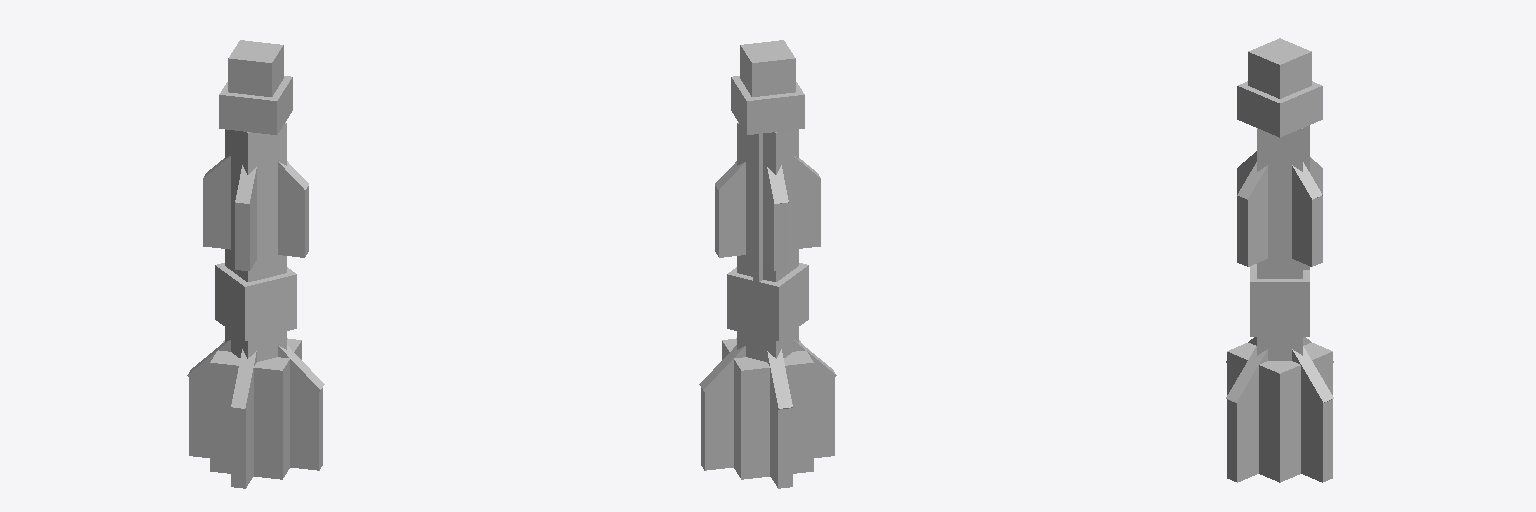
Rendered from missile_chemical.obj.
3 renders of one model, left to right at view 1: azimuth 30°, elevation 25°; view 2: azimuth 150°, elevation 25°; view 3: azimuth 270°, elevation 25°, orthographic.
Visible parts, largest first — view 1: MOTOR_MODULE, MAIN_MISSILE_MODULE, CHEMICAL_CONTROL_MODULE, WING_B_B_1, WING_T_A_2, CHEM_WARHEAD_1, CHEM_WARHEAD_2, WING_B_A_1, WING_T_A_1, WING_T_B_2, WING_B_B_2, WING_B_A_2 (+1 smaller); view 2: MOTOR_MODULE, MAIN_MISSILE_MODULE, CHEMICAL_CONTROL_MODULE, WING_B_A_1, WING_T_B_2, CHEM_WARHEAD_1, CHEM_WARHEAD_2, WING_B_B_1, CHEMICAL_CONDUCT, WING_B_A_2, WING_T_A_2, WING_T_B_1 (+2 smaller); view 3: MOTOR_MODULE, MAIN_MISSILE_MODULE, CHEMICAL_CONTROL_MODULE, CHEM_WARHEAD_1, CHEM_WARHEAD_2, WING_B_A_1, WING_B_B_1, WING_T_A_2, WING_T_B_2, WING_T_B_1, WING_B_B_2, WING_B_A_2 (+1 smaller).
Boxes of the visible parts, x1=… form: MOTOR_MODULE: x1=210, y1=338, x2=301, y2=479; MAIN_MISSILE_MODULE: x1=225, y1=122, x2=286, y2=361; CHEMICAL_CONTROL_MODULE: x1=215, y1=263, x2=296, y2=340; WING_B_B_1: x1=189, y1=374, x2=322, y2=470; WING_T_A_2: x1=203, y1=180, x2=308, y2=257; CHEM_WARHEAD_1: x1=219, y1=76, x2=292, y2=134; CHEM_WARHEAD_2: x1=228, y1=40, x2=283, y2=96; WING_B_A_1: x1=231, y1=395, x2=253, y2=488; WING_T_A_1: x1=203, y1=156, x2=308, y2=212; WING_T_B_2: x1=235, y1=202, x2=256, y2=270; WING_B_B_2: x1=187, y1=340, x2=324, y2=391; WING_B_A_2: x1=231, y1=349, x2=256, y2=409; MOTOR_MODULE: x1=722, y1=338, x2=813, y2=479; MAIN_MISSILE_MODULE: x1=737, y1=122, x2=798, y2=361; CHEMICAL_CONTROL_MODULE: x1=727, y1=263, x2=808, y2=340; WING_B_A_1: x1=701, y1=376, x2=834, y2=470; WING_T_B_2: x1=715, y1=178, x2=820, y2=257; CHEM_WARHEAD_1: x1=731, y1=76, x2=804, y2=134; CHEM_WARHEAD_2: x1=740, y1=40, x2=795, y2=96; WING_B_B_1: x1=770, y1=395, x2=792, y2=488; CHEMICAL_CONDUCT: x1=753, y1=134, x2=762, y2=281; WING_B_A_2: x1=699, y1=340, x2=836, y2=391; WING_T_A_2: x1=767, y1=203, x2=788, y2=270; WING_T_B_1: x1=715, y1=156, x2=819, y2=212; MOTOR_MODULE: x1=1227, y1=343, x2=1332, y2=482; MAIN_MISSILE_MODULE: x1=1257, y1=128, x2=1302, y2=360; CHEMICAL_CONTROL_MODULE: x1=1250, y1=264, x2=1309, y2=336; CHEM_WARHEAD_1: x1=1237, y1=81, x2=1322, y2=137; CHEM_WARHEAD_2: x1=1248, y1=38, x2=1311, y2=98; WING_B_A_1: x1=1301, y1=392, x2=1332, y2=482; WING_B_B_1: x1=1227, y1=392, x2=1258, y2=482; WING_T_A_2: x1=1237, y1=168, x2=1322, y2=266; WING_T_B_2: x1=1237, y1=169, x2=1322, y2=266; WING_T_B_1: x1=1237, y1=151, x2=1322, y2=216; WING_B_B_2: x1=1226, y1=337, x2=1333, y2=403; WING_B_A_2: x1=1226, y1=337, x2=1333, y2=402.
Size of the model in its own units: 0.9009 by 3.75 by 0.9009.